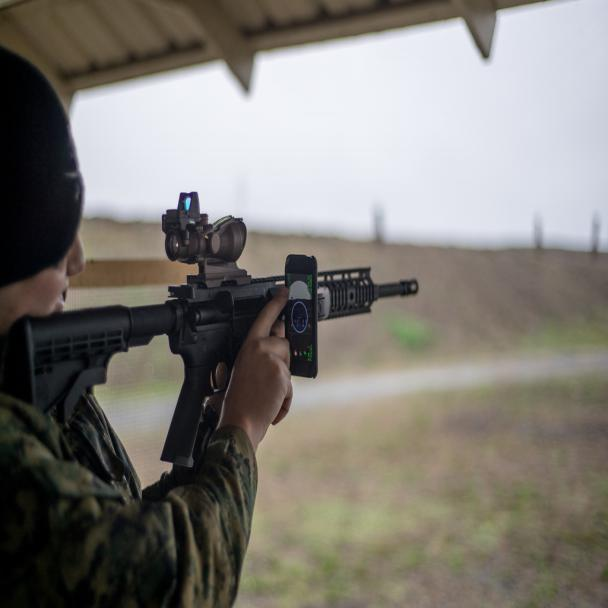Gun: (20, 190, 422, 446)
Hand: (216, 282, 295, 452)
